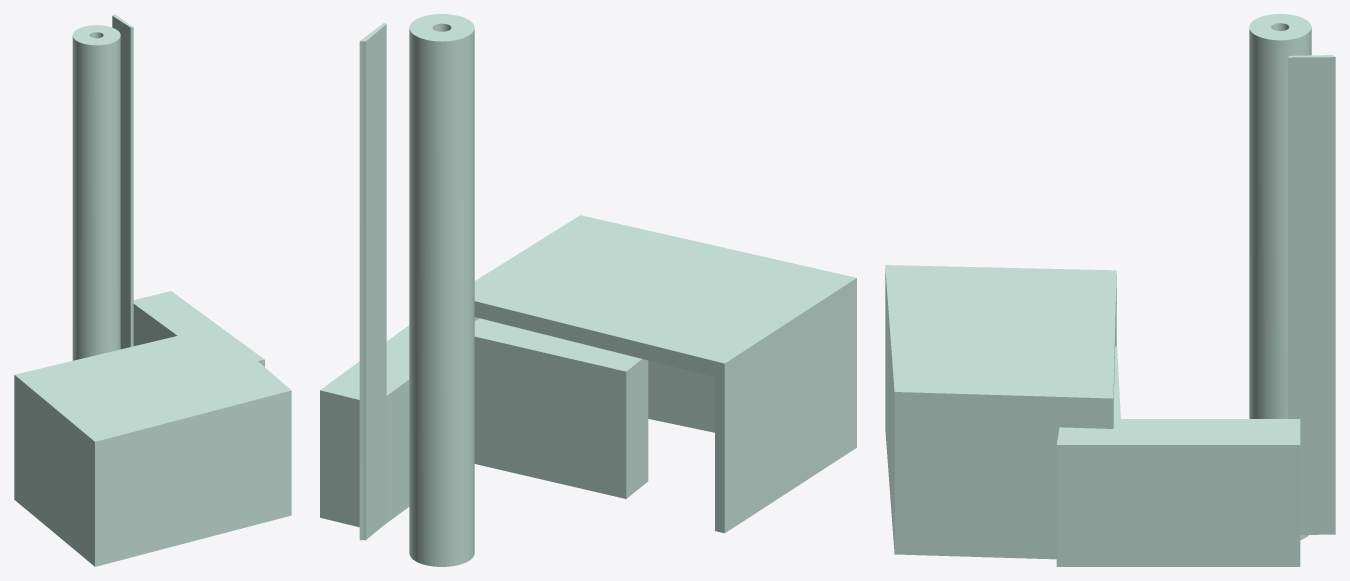
The picture shows the model from 3 angles, left to right: view 1: azimuth 30°, elevation 25°; view 2: azimuth 150°, elevation 25°; view 3: azimuth 270°, elevation 25°; orthographic projection. The views are drawn at different scales.
Parts seen in each view (by area): view 1: Renderer Node; view 2: Renderer Node; view 3: Renderer Node.
Boxes of the visible parts, left/top/right/bottom form: Renderer Node: left=14, top=14, right=291, bottom=566; Renderer Node: left=320, top=14, right=856, bottom=566; Renderer Node: left=885, top=14, right=1335, bottom=566.
Bounding box in the file's own units: 0.4931 × 0.7734 × 0.628.
